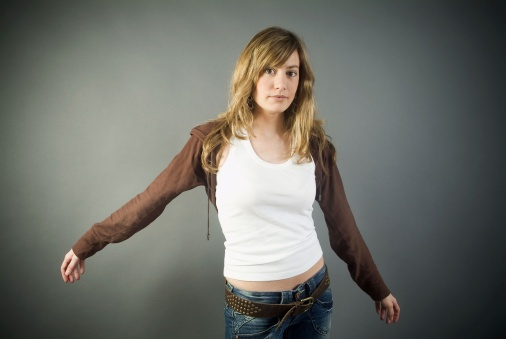em pe: (42, 16, 376, 339)
